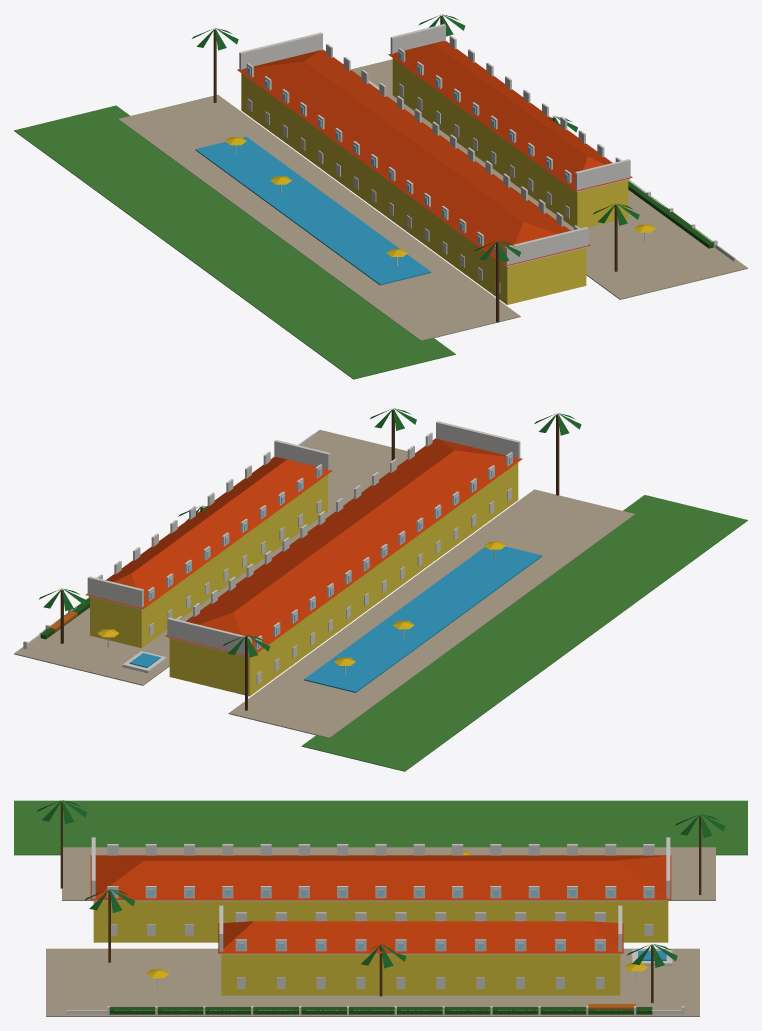
File: amsterdam.glb
The picture shows the model from 3 angles, top to bottom: view 1: azimuth 30°, elevation 25°; view 2: azimuth 150°, elevation 25°; view 3: azimuth 270°, elevation 25°; orthographic projection. The views are drawn at different scales.
Visible parts, largest first — view 1: amsterdam_lod0; view 2: amsterdam_lod0; view 3: amsterdam_lod0.
Part boxes in pixels (x1,y1,x2,y2): amsterdam_lod0: (14,14,747,379); amsterdam_lod0: (14,408,747,771); amsterdam_lod0: (14,800,747,1016).
Size of what is drawn, in the model's own units: 64 by 12.3 by 92.
